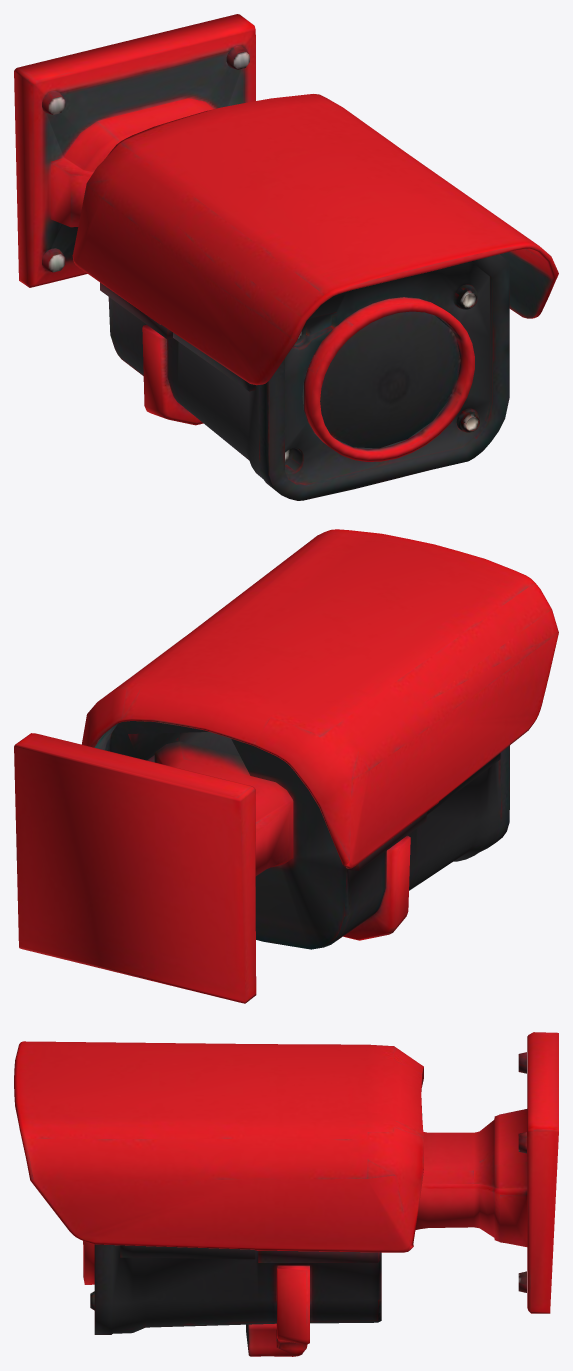
The model's file is Bank_SecurityCamera.glb.
The picture shows the model from 3 angles, top to bottom: view 1: azimuth 30°, elevation 25°; view 2: azimuth 150°, elevation 25°; view 3: azimuth 270°, elevation 25°; orthographic projection. The views are drawn at different scales.
Parts seen in each view (by area): view 1: tripo_node_4f588f7a-7165-4016-9450-d366663a1d01; view 2: tripo_node_4f588f7a-7165-4016-9450-d366663a1d01; view 3: tripo_node_4f588f7a-7165-4016-9450-d366663a1d01.
Part boxes in pixels (box(x1,y1,x2,y2)): tripo_node_4f588f7a-7165-4016-9450-d366663a1d01: box(14, 14, 558, 500); tripo_node_4f588f7a-7165-4016-9450-d366663a1d01: box(14, 529, 558, 1003); tripo_node_4f588f7a-7165-4016-9450-d366663a1d01: box(14, 1032, 558, 1356).
Size of the model in its own units: 0.5252 by 0.5095 by 1.
1 material, 1 textured.
